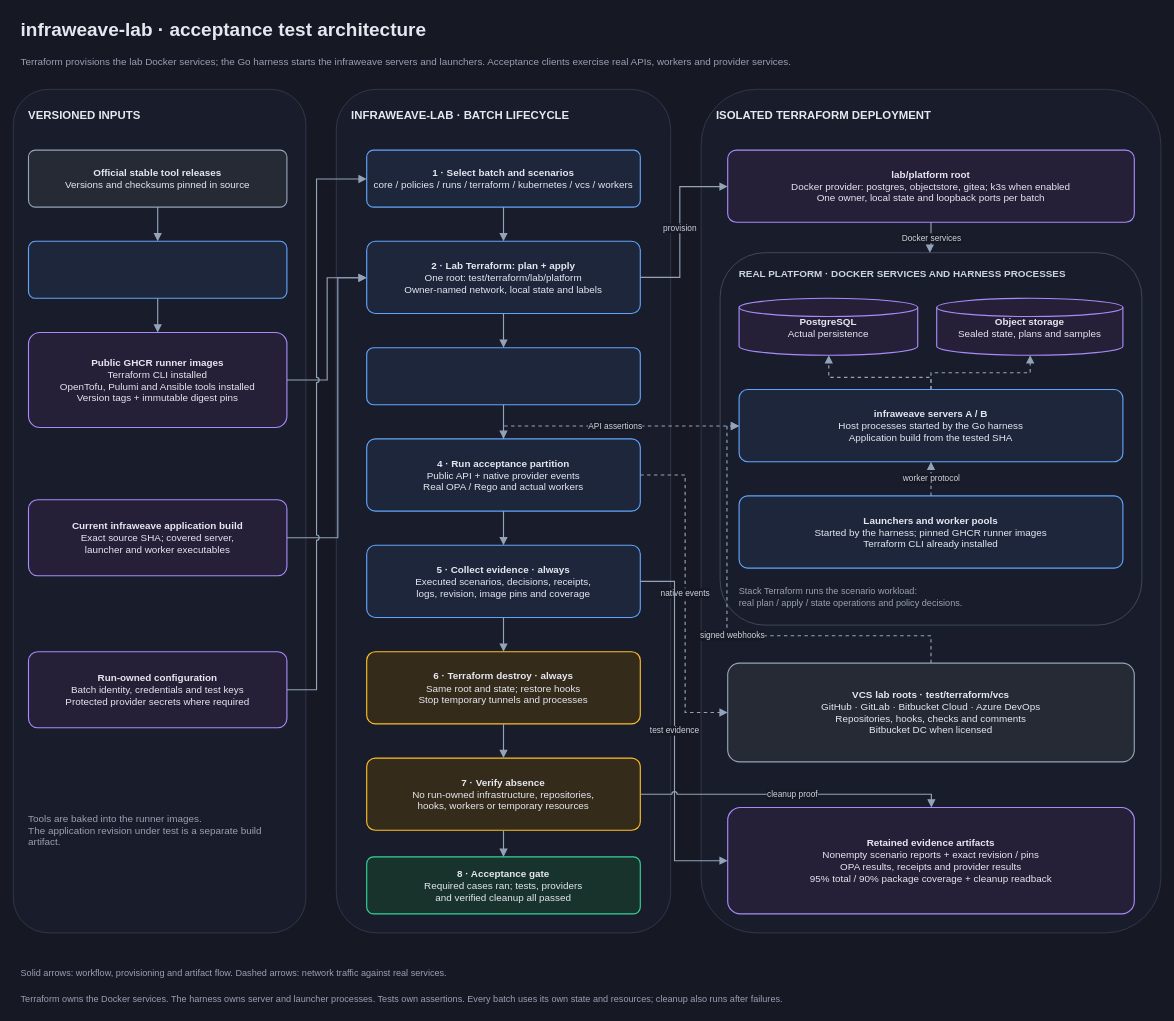
This 1174x1021 diagram has some shape labels left out. Each missing label, with the centre of its shape:
3 · Readiness gate API, database, storage and worker registration: (503,376)
Runner image pipeline Build → execute tool contracts → sign: (157,269)
